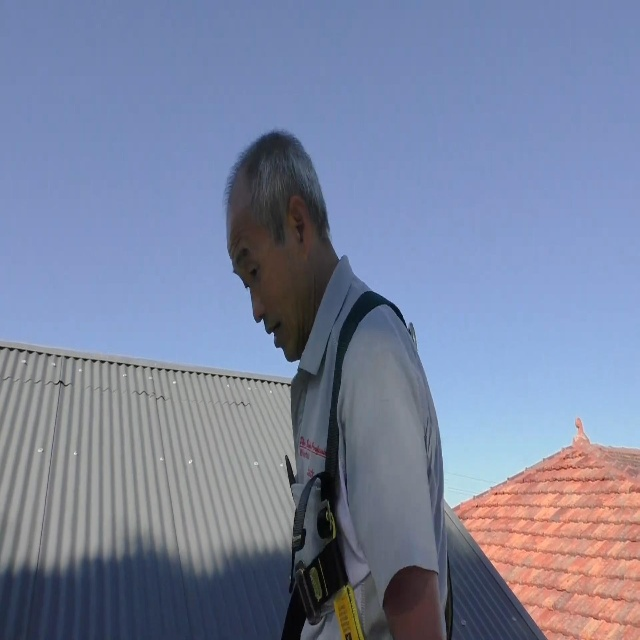Arnes_seguridad: (265, 283, 453, 640)
